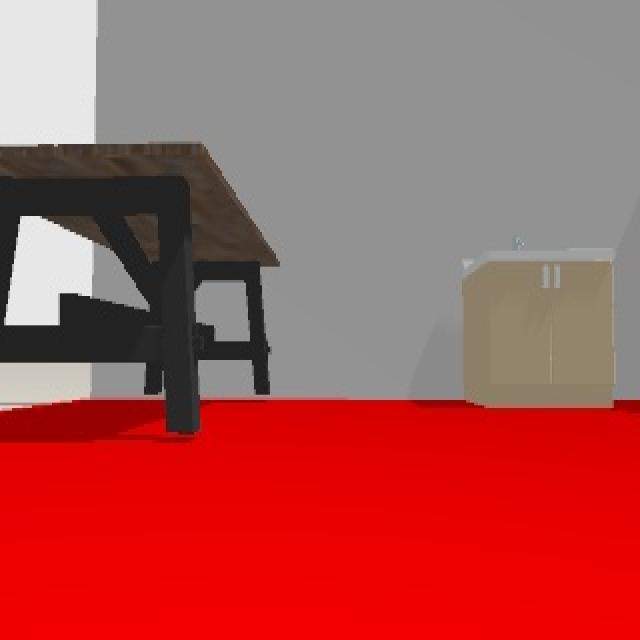dining: (1, 142, 282, 436)
